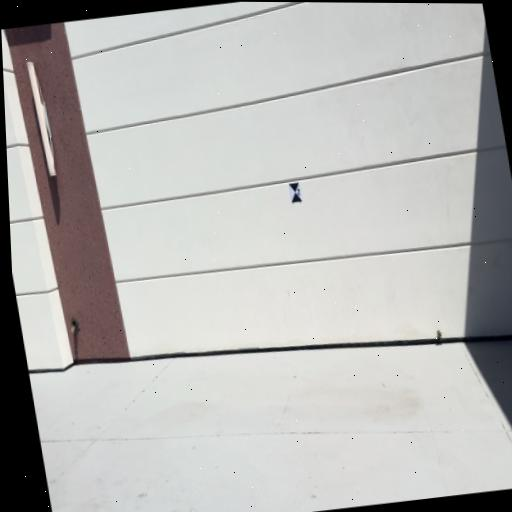target7: (288, 182, 302, 203)
